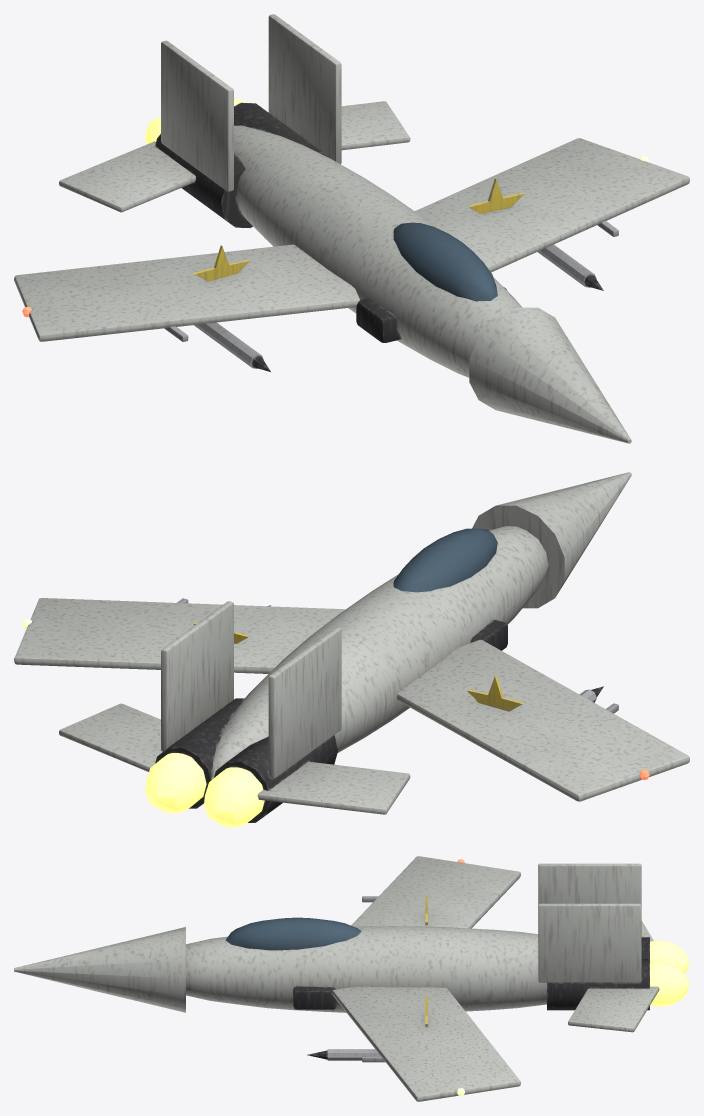
The model's file is red_jet.glb.
3 renders of one model, top to bottom at view 1: azimuth 30°, elevation 25°; view 2: azimuth 150°, elevation 25°; view 3: azimuth 270°, elevation 25°, orthographic. The views are drawn at different scales.
Parts seen in each view (by area): view 1: Hull; view 2: Hull; view 3: Hull.
Part boxes in pixels (left/top/right/bottom): Hull: left=14, top=14, right=689, bottom=443; Hull: left=14, top=472, right=689, bottom=827; Hull: left=14, top=856, right=689, bottom=1101.
Bounding box in the file's own units: 6.65 × 1.6 × 7.86.
8 materials, 8 textured.
